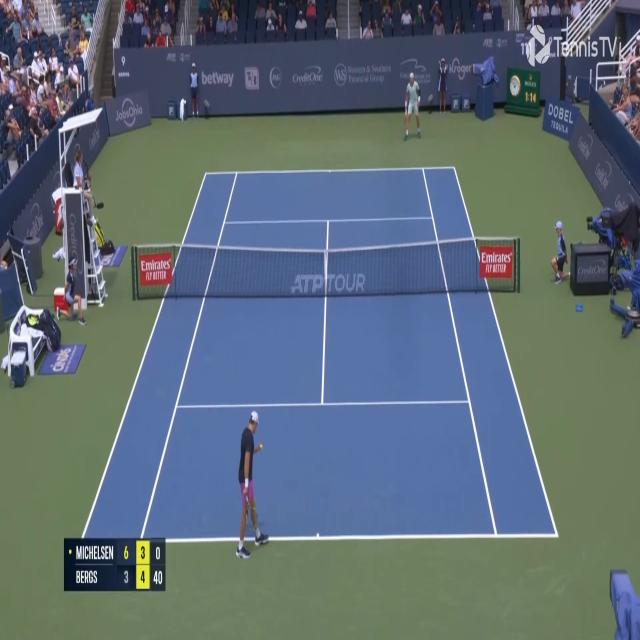tennis-player: (233, 408, 270, 562), (402, 72, 423, 142)
